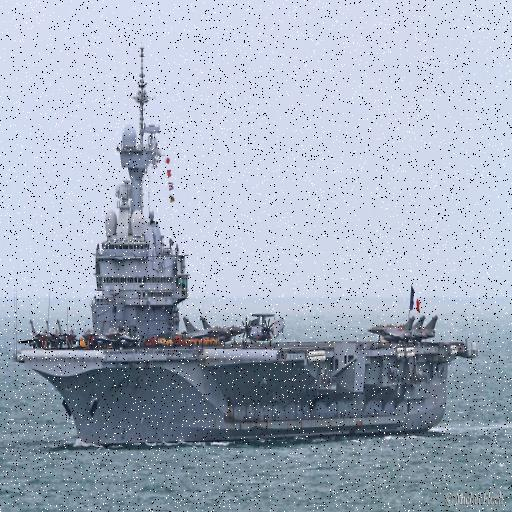Portanaves: (13, 41, 480, 449)
